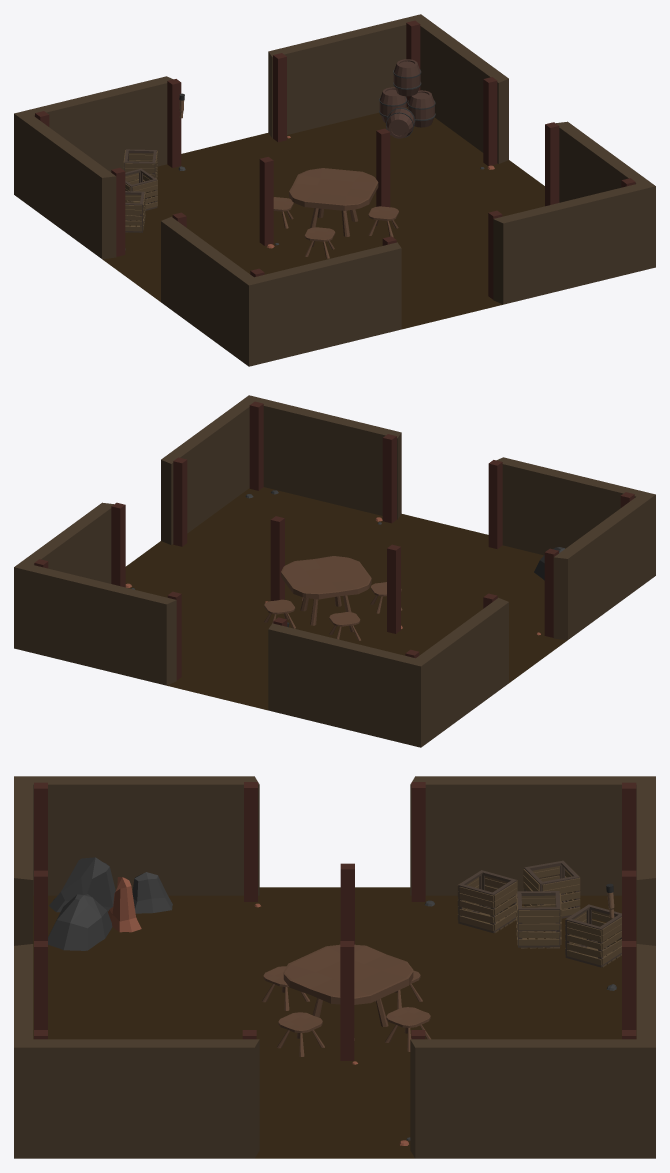
Rendered from RoomBen5.fbx.
3 renders of one model, top to bottom at view 1: azimuth 30°, elevation 25°; view 2: azimuth 150°, elevation 25°; view 3: azimuth 270°, elevation 25°, orthographic. The views are drawn at different scales.
Visible parts, largest first — view 1: Room1.003, RoomFloor.004, Table.002, Support.047, Support.048, Support.041, Support.040, Support.051, Support.049, Barrel.021, Crate.007, Support.046 (+9 smaller); view 2: Room1.003, RoomFloor.004, Table.002, Support.044, Support.038, Support.039, Support.051, Support.047, Support.048, Support.049, Support.050, Support.040 (+1 smaller); view 3: Room1.003, RoomFloor.004, Table.002, Crate.005, Crate.006, Crate.007, LargeRock1.013, LargeRock1.015, Crate.004, Support.046, Support.049, Support.050 (+12 smaller).
Boxes of the visible parts, x1=… form: Room1.003: x1=14, y1=14, x2=655, y2=366; RoomFloor.004: x1=102, y1=107, x2=544, y2=329; Table.002: x1=289, y1=168, x2=378, y2=236; Support.047: x1=483, y1=77, x2=497, y2=165; Support.048: x1=259, y1=157, x2=273, y2=245; Support.041: x1=167, y1=79, x2=181, y2=167; Support.040: x1=273, y1=53, x2=286, y2=142; Support.051: x1=545, y1=122, x2=559, y2=206; Support.049: x1=376, y1=128, x2=390, y2=207; Barrel.021: x1=393, y1=59, x2=421, y2=96; Crate.007: x1=125, y1=168, x2=157, y2=210; Support.046: x1=111, y1=167, x2=125, y2=256; Room1.003: x1=14, y1=395, x2=655, y2=747; RoomFloor.004: x1=125, y1=487, x2=567, y2=710; Table.002: x1=281, y1=556, x2=371, y2=625; Support.044: x1=249, y1=401, x2=263, y2=490; Support.038: x1=382, y1=434, x2=396, y2=523; Support.039: x1=488, y1=460, x2=502, y2=549; Support.051: x1=173, y1=457, x2=187, y2=546; Support.047: x1=111, y1=502, x2=125, y2=587; Support.048: x1=387, y1=544, x2=400, y2=633; Support.049: x1=270, y1=516, x2=284, y2=600; Support.050: x1=544, y1=548, x2=558, y2=637; Support.040: x1=167, y1=591, x2=181, y2=680; Room1.003: x1=14, y1=776, x2=655, y2=1158; RoomFloor.004: x1=33, y1=887, x2=636, y2=1158; Table.002: x1=283, y1=944, x2=413, y2=1040; Crate.005: x1=457, y1=870, x2=517, y2=933; Crate.006: x1=565, y1=904, x2=621, y2=967; Crate.007: x1=516, y1=891, x2=561, y2=948; LargeRock1.013: x1=48, y1=894, x2=112, y2=950; LargeRock1.015: x1=49, y1=857, x2=115, y2=912; Crate.004: x1=523, y1=860, x2=580, y2=918; Support.046: x1=411, y1=782, x2=425, y2=901; Support.049: x1=340, y1=941, x2=354, y2=1060; Support.050: x1=244, y1=782, x2=257, y2=901.
Size of the model in its own units: 796 by 181 by 796.
